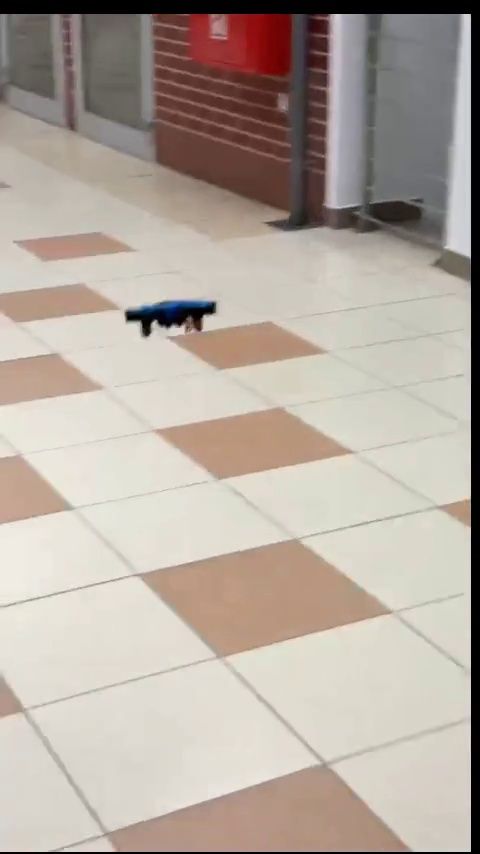drone: (125, 301, 213, 333)
